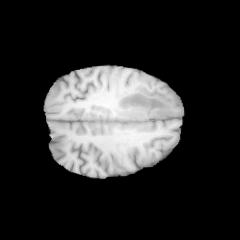glioma: (118, 93, 171, 119)
